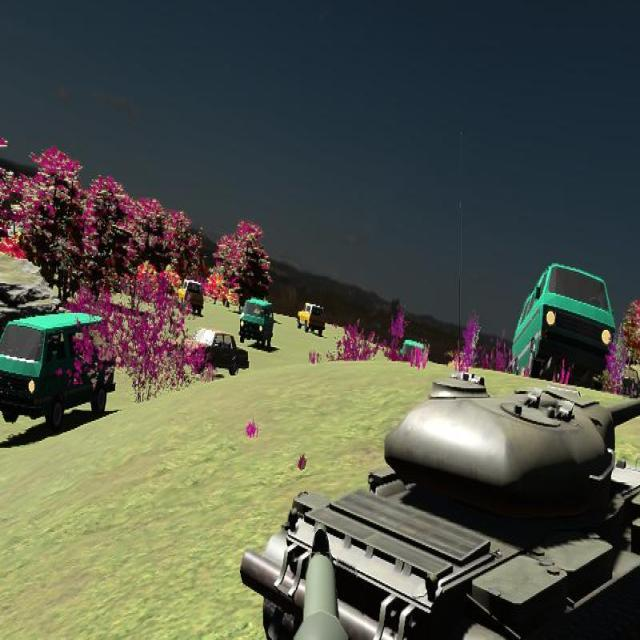Tank: (240, 373, 640, 640)
car: (512, 262, 617, 401), (0, 311, 116, 431), (181, 328, 249, 376), (240, 296, 274, 349), (176, 278, 204, 314), (297, 302, 326, 336)
